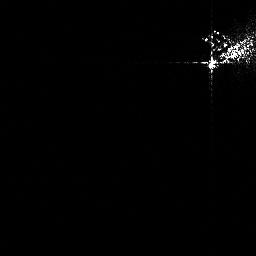ship: (191, 23, 256, 85)
